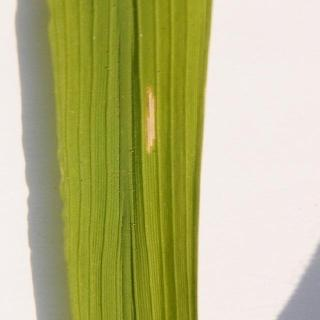Hawar-Daun: (118, 47, 200, 289)
